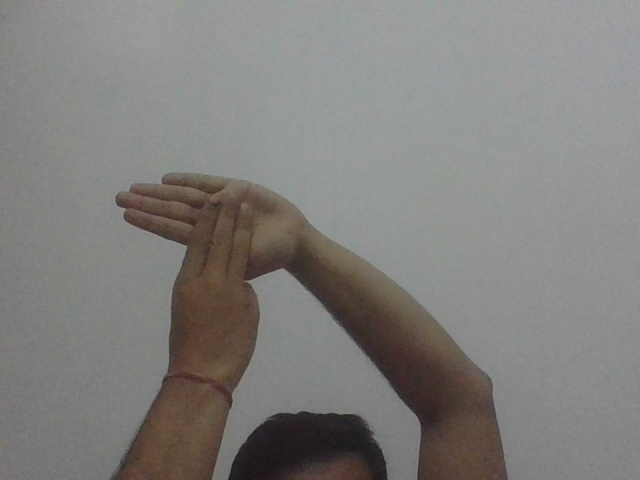M: (110, 168, 296, 339)
